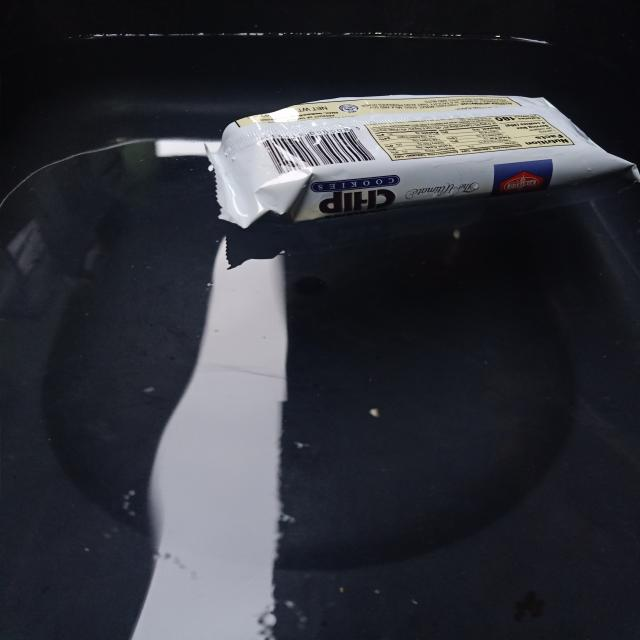Plastic Wrapper: (211, 95, 638, 227)
